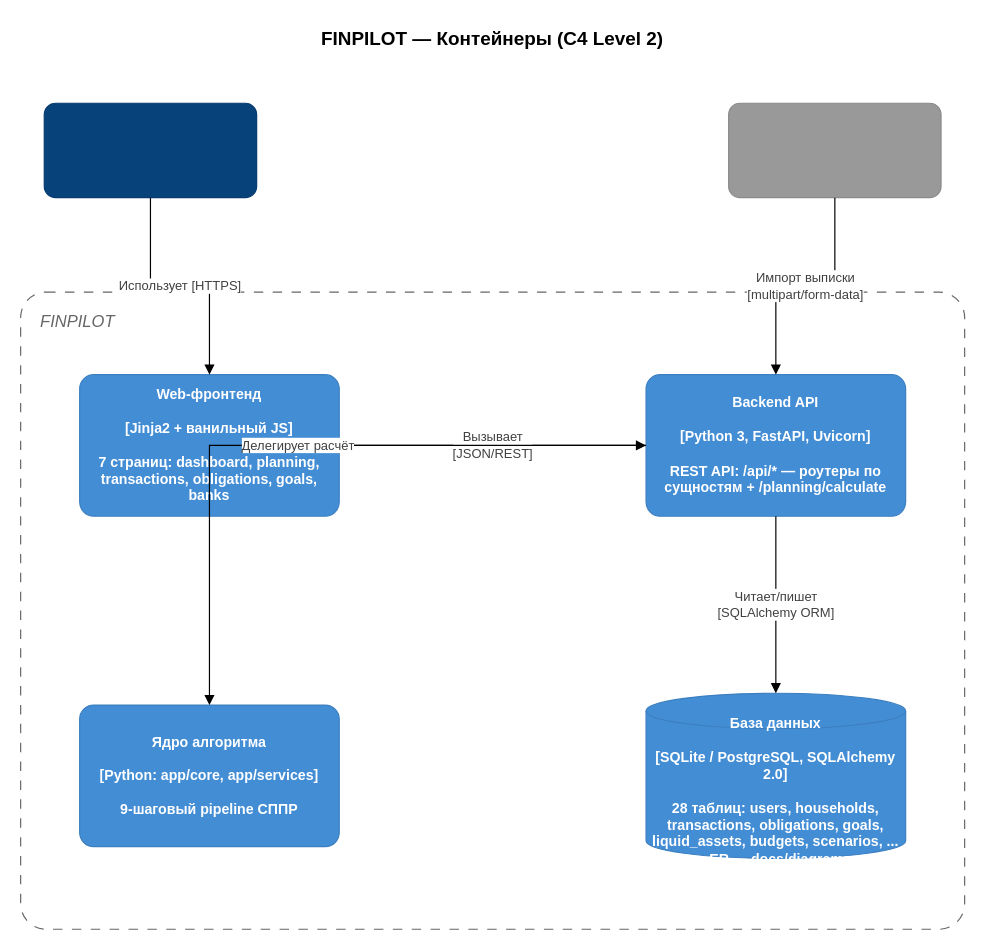
This 985x950 diagram has some shape labels left out. Here are the shapes that lost their labels. From the top down, the centre of each, then its label:
the point at 150,150: Пользователь [Человек]
the point at 834,150: Банк CSV/Excel [Внешняя система]
